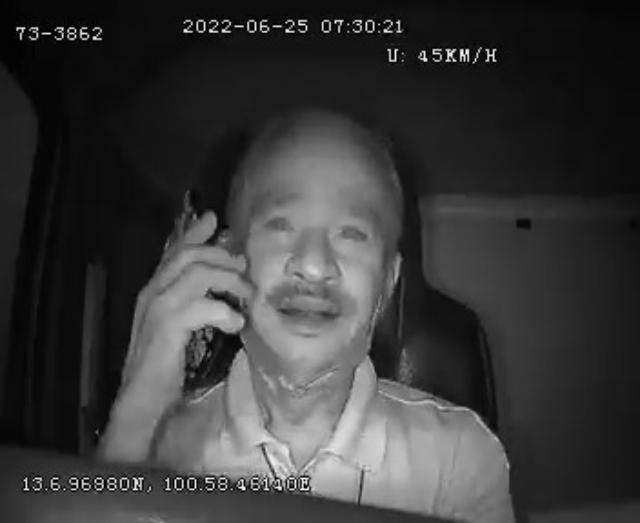PhoneUse: (159, 186, 235, 398)
SafeDriving: (324, 206, 380, 254), (255, 198, 304, 242)
